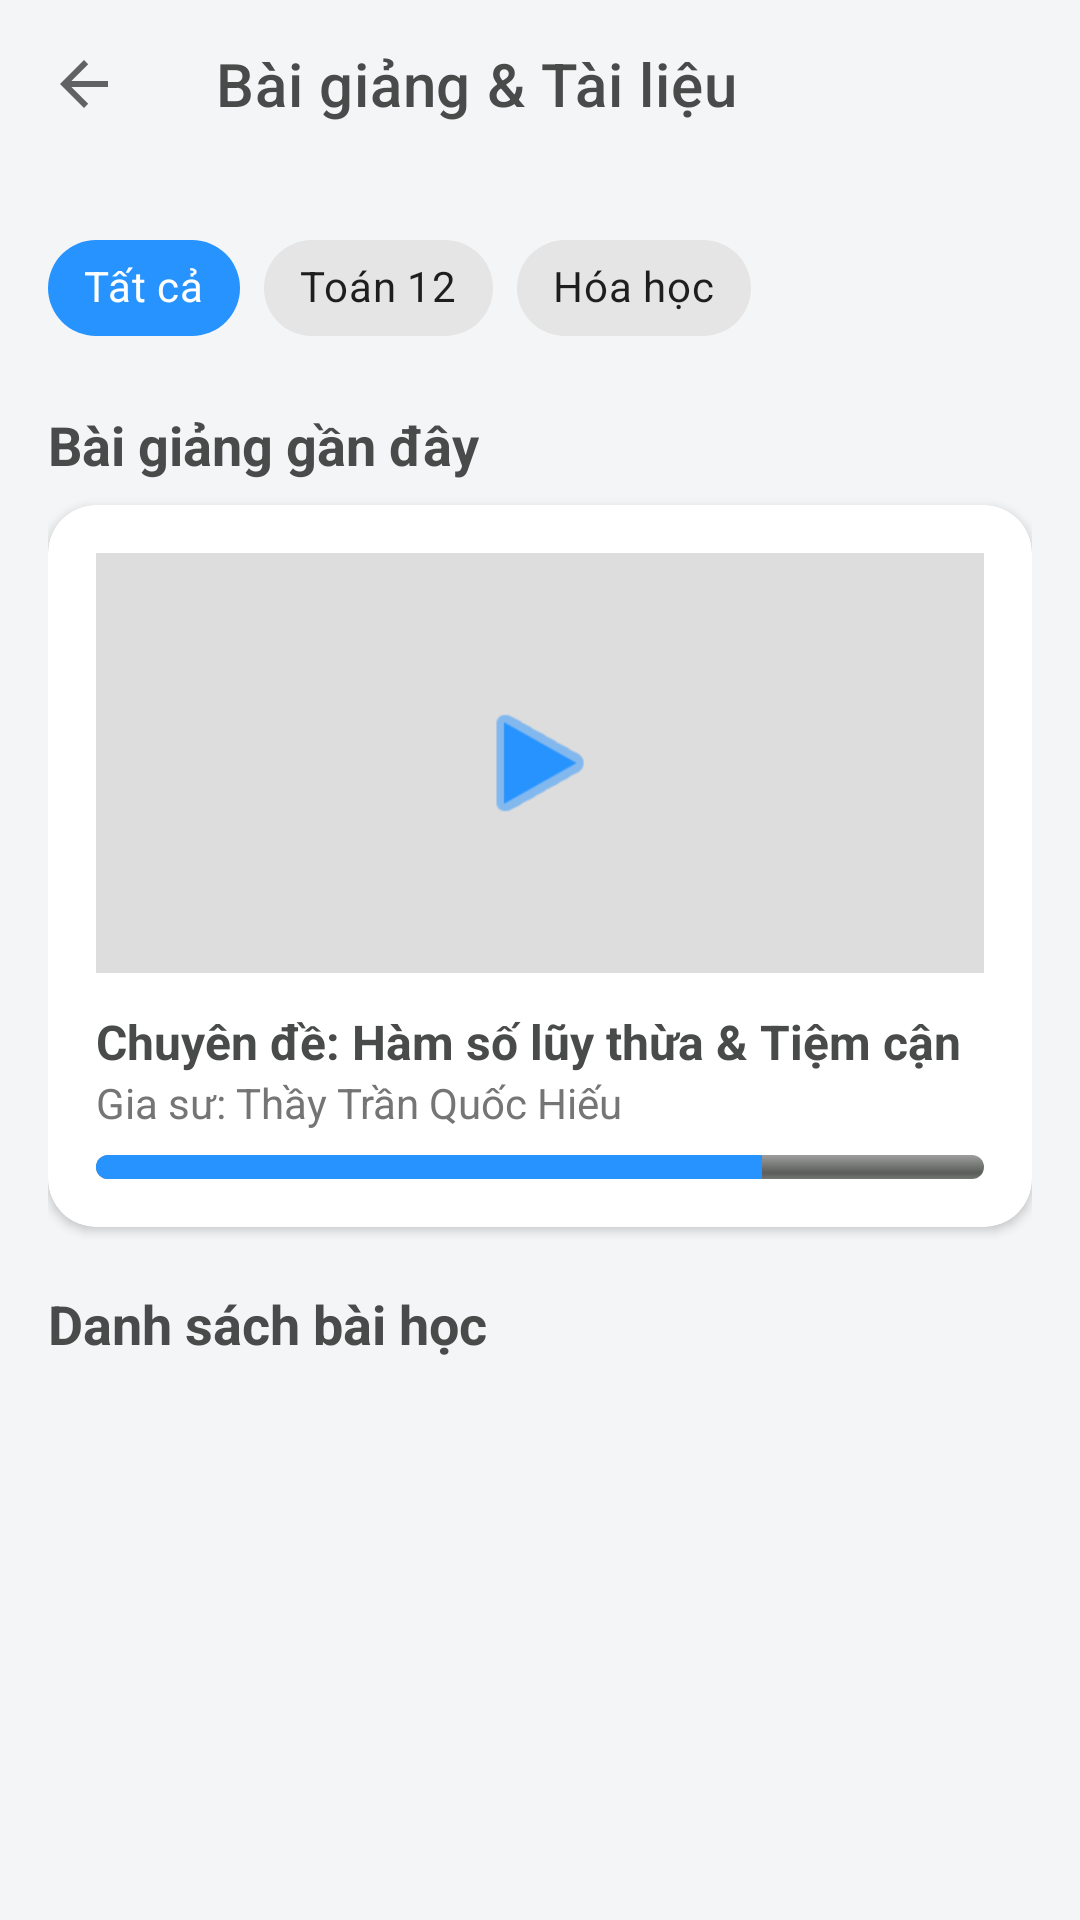

Icons on this 1080w x 1920h Android screen, each with the point to tap as [x,y]:
play: [540,763]
